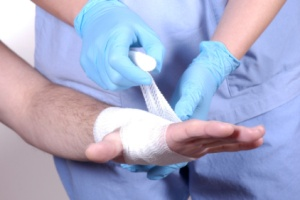injured: (97, 91, 254, 175)
